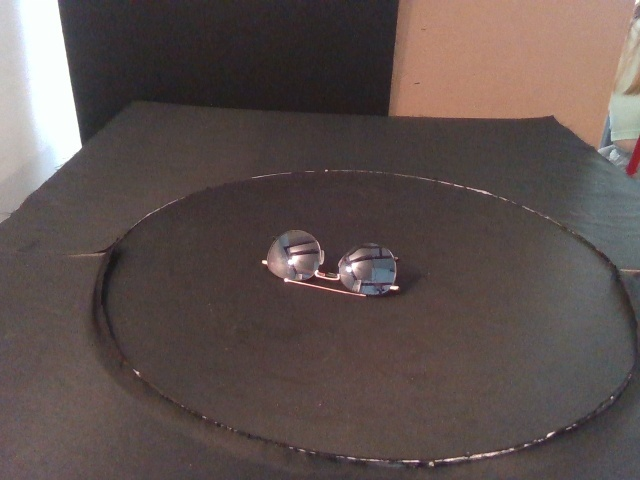glasses: (261, 228, 401, 301)
